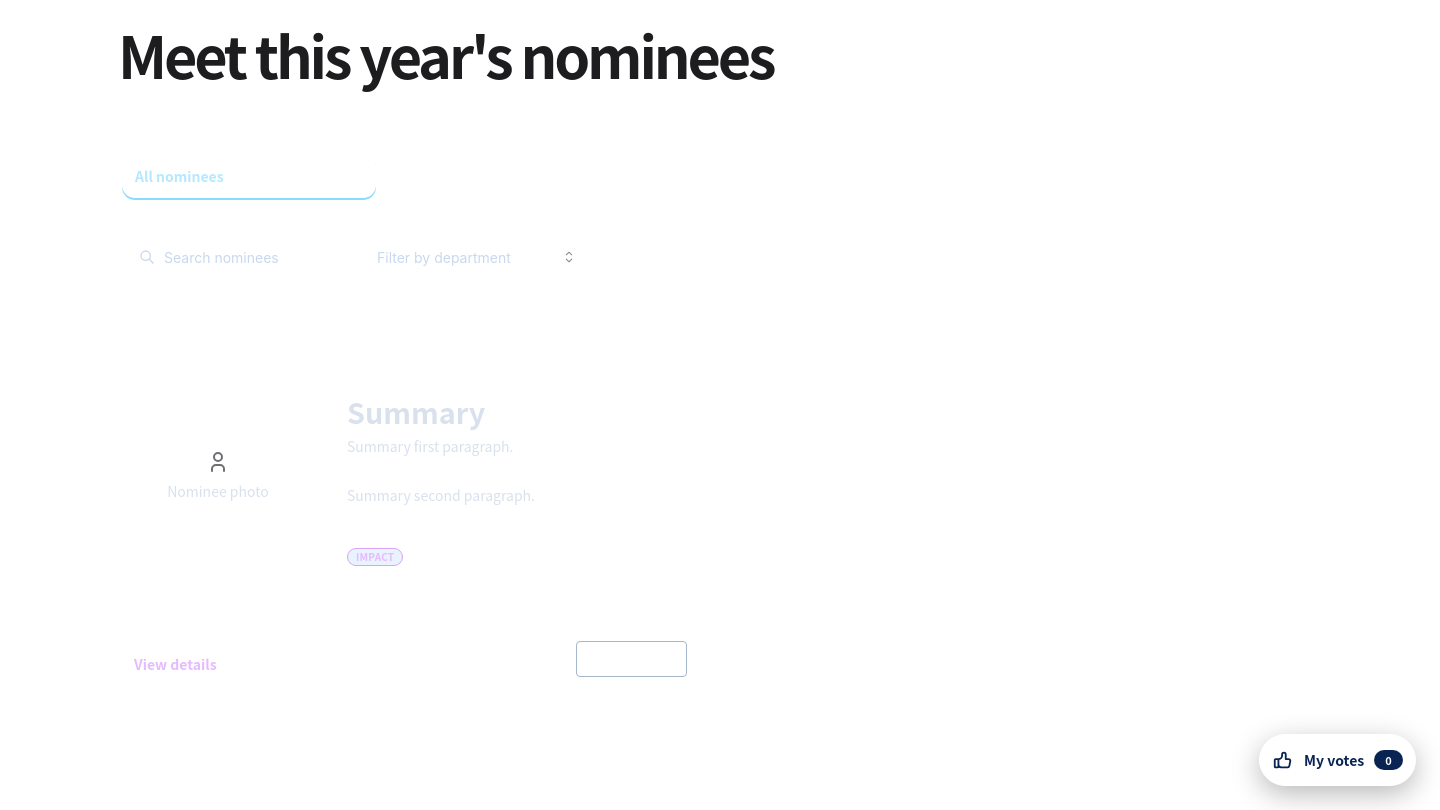
ProjectShowcase › previews only the summary and keeps all answers in the detail dialog
This screenshot has width=1440, height=810.
Expected: the text "Summary first paragraph. Summary second paragraph." is shown, x1=347 y1=436 x2=535 y2=505
Expected: the text "Saved RMB" is not shown
Click the button "View details" at (175, 664), box x1=129 y1=651 x2=222 y2=677
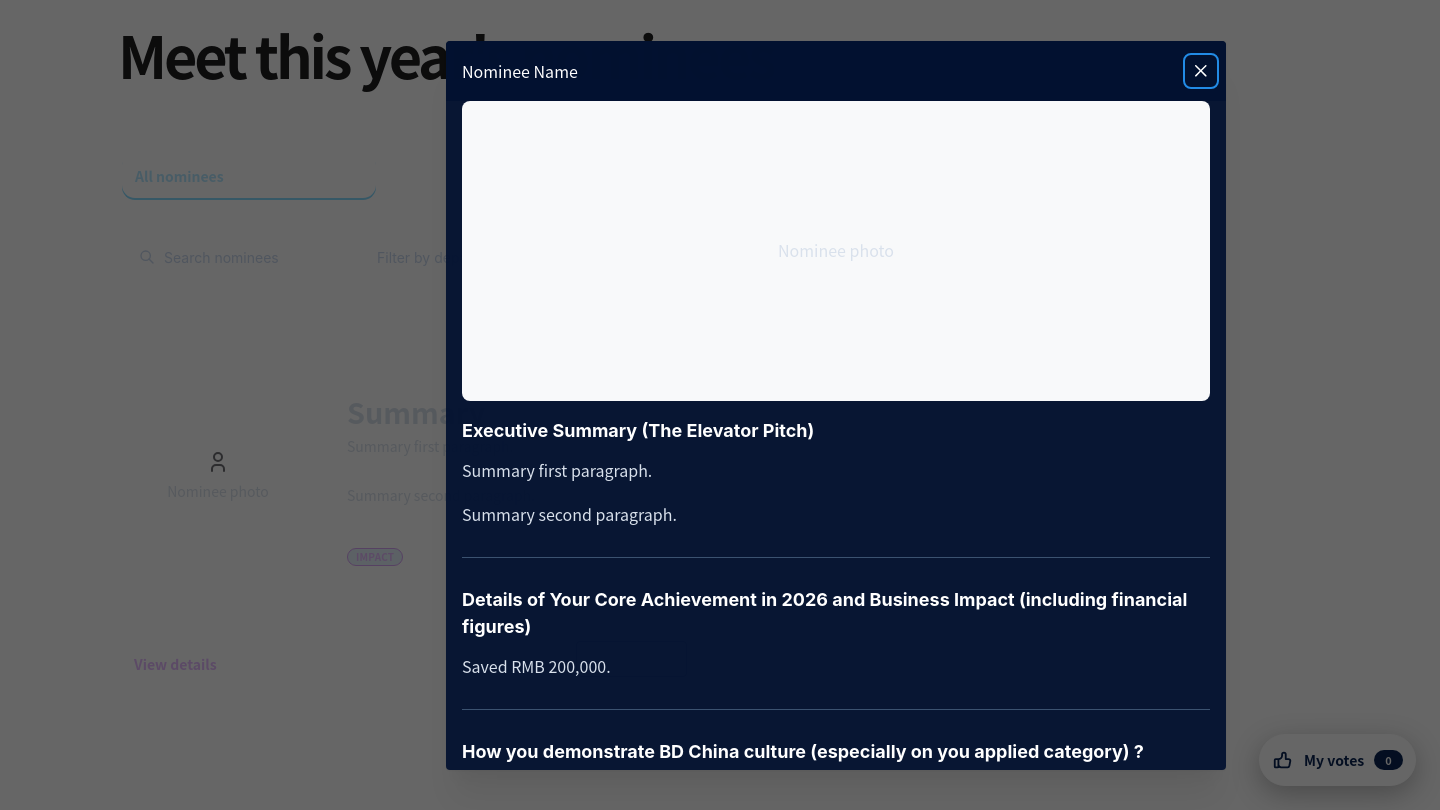
Expected: the heading "Executive Summary (The Elevator Pitch)" is shown, x1=462 y1=420 x2=814 y2=440
Expected: the heading "Details of Your Core Achievement" is shown, x1=462 y1=586 x2=1210 y2=640
Expected: the heading "How you demonstrate BD China culture" is shown, x1=462 y1=738 x2=1210 y2=765
